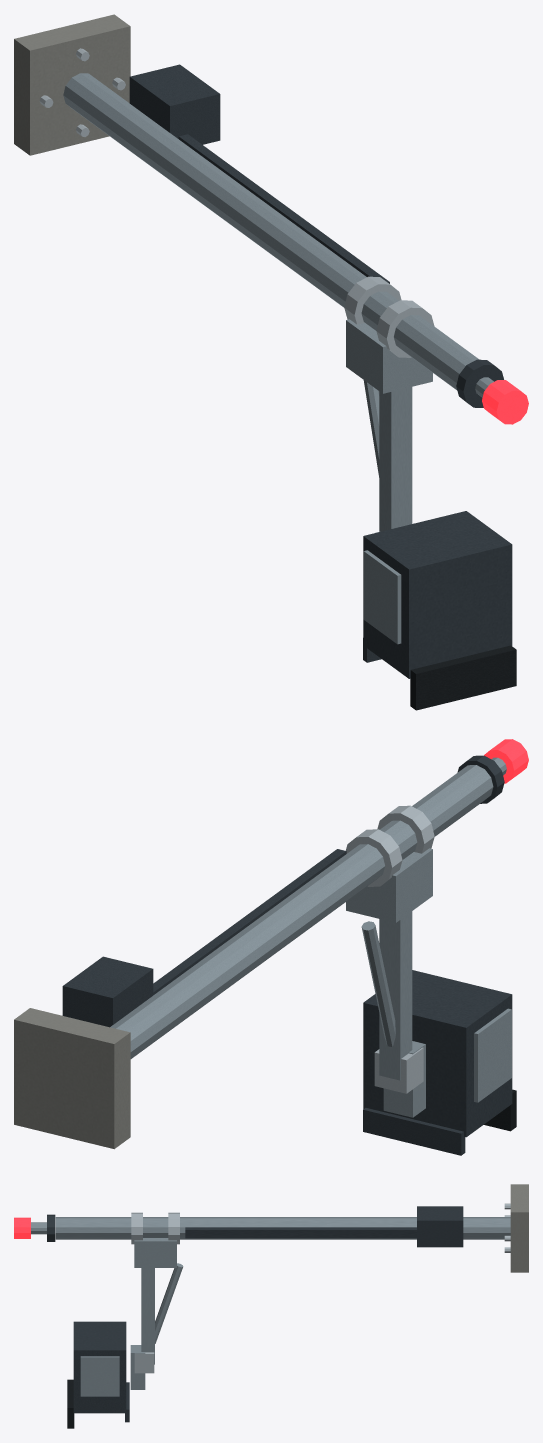
File: PZ_Mast_Clamp_Lamp_Assembly.glb
3 renders of one model, top to bottom at view 1: azimuth 30°, elevation 25°; view 2: azimuth 150°, elevation 25°; view 3: azimuth 270°, elevation 25°, orthographic. The views are drawn at different scales.
Visible parts, largest first — view 1: PZ_Mast_Clamp_Lamp_Assembly__IndependentMastLamp_LampBody, PZ_Mast_Clamp_Lamp_Assembly__MountingPole, PZ_Mast_Clamp_Lamp_Assembly__Pole_Base, PZ_Mast_Clamp_Lamp_Assembly__ConduitEntry, PZ_Mast_Clamp_Lamp_Assembly__ExtensionArm, PZ_Mast_Clamp_Lamp_Assembly__IndependentMastLamp_WeatherViso, PZ_Mast_Clamp_Lamp_Assembly__ClampedMountPlate, PZ_Mast_Clamp_Lamp_Assembly__IndependentMastLamp_SideCooling, PZ_Mast_Clamp_Lamp_Assembly__CableRaceway, PZ_Mast_Clamp_Lamp_Assembly__Mast_RedBeaconEmitter, PZ_Mast_Clamp_Lamp_Assembly__MastClampBand_2.12, PZ_Mast_Clamp_Lamp_Assembly__UpperCap (+1 smaller); view 2: PZ_Mast_Clamp_Lamp_Assembly__MountingPole, PZ_Mast_Clamp_Lamp_Assembly__Pole_Base, PZ_Mast_Clamp_Lamp_Assembly__IndependentMastLamp_LampBody, PZ_Mast_Clamp_Lamp_Assembly__ConduitEntry, PZ_Mast_Clamp_Lamp_Assembly__ExtensionArm, PZ_Mast_Clamp_Lamp_Assembly__ClampedMountPlate, PZ_Mast_Clamp_Lamp_Assembly__IndependentMastLamp_SideCooling, PZ_Mast_Clamp_Lamp_Assembly__IndependentMastLamp_LowerBaffle, PZ_Mast_Clamp_Lamp_Assembly__CableRaceway, PZ_Mast_Clamp_Lamp_Assembly__AngleSupport, PZ_Mast_Clamp_Lamp_Assembly__MastClampBand_1.92, PZ_Mast_Clamp_Lamp_Assembly__AimingPivot_Block (+5 smaller); view 3: PZ_Mast_Clamp_Lamp_Assembly__MountingPole, PZ_Mast_Clamp_Lamp_Assembly__IndependentMastLamp_LampBody, PZ_Mast_Clamp_Lamp_Assembly__CableRaceway, PZ_Mast_Clamp_Lamp_Assembly__ConduitEntry, PZ_Mast_Clamp_Lamp_Assembly__Pole_Base, PZ_Mast_Clamp_Lamp_Assembly__IndependentMastLamp_SideCooling, PZ_Mast_Clamp_Lamp_Assembly__ClampedMountPlate, PZ_Mast_Clamp_Lamp_Assembly__ExtensionArm, PZ_Mast_Clamp_Lamp_Assembly__AngleSupport, PZ_Mast_Clamp_Lamp_Assembly__IndependentMastLamp_TrunnionBra, PZ_Mast_Clamp_Lamp_Assembly__AimingPivot_Block, PZ_Mast_Clamp_Lamp_Assembly__Mast_RedBeaconEmitter (+3 smaller).
Part boxes in pixels (box(x1,y1,x2,y2)): PZ_Mast_Clamp_Lamp_Assembly__IndependentMastLamp_LampBody: box(363, 511, 512, 678); PZ_Mast_Clamp_Lamp_Assembly__MountingPole: box(63, 73, 479, 390); PZ_Mast_Clamp_Lamp_Assembly__Pole_Base: box(14, 14, 130, 155); PZ_Mast_Clamp_Lamp_Assembly__ConduitEntry: box(129, 64, 220, 144); PZ_Mast_Clamp_Lamp_Assembly__ExtensionArm: box(379, 387, 412, 531); PZ_Mast_Clamp_Lamp_Assembly__IndependentMastLamp_WeatherViso: box(410, 645, 516, 710); PZ_Mast_Clamp_Lamp_Assembly__ClampedMountPlate: box(346, 319, 432, 393); PZ_Mast_Clamp_Lamp_Assembly__IndependentMastLamp_SideCooling: box(363, 550, 401, 644); PZ_Mast_Clamp_Lamp_Assembly__CableRaceway: box(178, 134, 389, 283); PZ_Mast_Clamp_Lamp_Assembly__Mast_RedBeaconEmitter: box(482, 380, 528, 424); PZ_Mast_Clamp_Lamp_Assembly__MastClampBand_2.12: box(376, 300, 434, 357); PZ_Mast_Clamp_Lamp_Assembly__UpperCap: box(456, 359, 503, 407); PZ_Mast_Clamp_Lamp_Assembly__MountingPole: box(110, 765, 493, 1058); PZ_Mast_Clamp_Lamp_Assembly__Pole_Base: box(14, 1008, 130, 1149); PZ_Mast_Clamp_Lamp_Assembly__IndependentMastLamp_LampBody: box(363, 970, 512, 1137); PZ_Mast_Clamp_Lamp_Assembly__ConduitEntry: box(62, 956, 153, 1027); PZ_Mast_Clamp_Lamp_Assembly__ExtensionArm: box(379, 911, 412, 1080); PZ_Mast_Clamp_Lamp_Assembly__ClampedMountPlate: box(346, 848, 432, 922); PZ_Mast_Clamp_Lamp_Assembly__IndependentMastLamp_SideCooling: box(474, 1008, 511, 1102); PZ_Mast_Clamp_Lamp_Assembly__IndependentMastLamp_LowerBaffle: box(363, 1108, 465, 1155); PZ_Mast_Clamp_Lamp_Assembly__CableRaceway: box(153, 849, 346, 994); PZ_Mast_Clamp_Lamp_Assembly__AngleSupport: box(361, 921, 395, 1046); PZ_Mast_Clamp_Lamp_Assembly__MastClampBand_1.92: box(345, 829, 402, 886); PZ_Mast_Clamp_Lamp_Assembly__AimingPivot_Block: box(374, 1047, 423, 1093); PZ_Mast_Clamp_Lamp_Assembly__MountingPole: box(55, 1217, 510, 1239); PZ_Mast_Clamp_Lamp_Assembly__IndependentMastLamp_LampBody: box(73, 1321, 126, 1413); PZ_Mast_Clamp_Lamp_Assembly__CableRaceway: box(185, 1227, 416, 1238); PZ_Mast_Clamp_Lamp_Assembly__ConduitEntry: box(417, 1206, 463, 1247); PZ_Mast_Clamp_Lamp_Assembly__Pole_Base: box(510, 1184, 528, 1272); PZ_Mast_Clamp_Lamp_Assembly__IndependentMastLamp_SideCooling: box(80, 1356, 119, 1396); PZ_Mast_Clamp_Lamp_Assembly__ClampedMountPlate: box(134, 1238, 176, 1267); PZ_Mast_Clamp_Lamp_Assembly__ExtensionArm: box(141, 1268, 154, 1364); PZ_Mast_Clamp_Lamp_Assembly__AngleSupport: box(155, 1263, 183, 1343); PZ_Mast_Clamp_Lamp_Assembly__IndependentMastLamp_TrunnionBra: box(130, 1345, 145, 1389); PZ_Mast_Clamp_Lamp_Assembly__AimingPivot_Block: box(134, 1352, 154, 1373); PZ_Mast_Clamp_Lamp_Assembly__Mast_RedBeaconEmitter: box(14, 1217, 30, 1238).
Bounding box in the file's own units: 0.415 × 1.29 × 2.79.
Materials: 2 (2 with a texture image).
